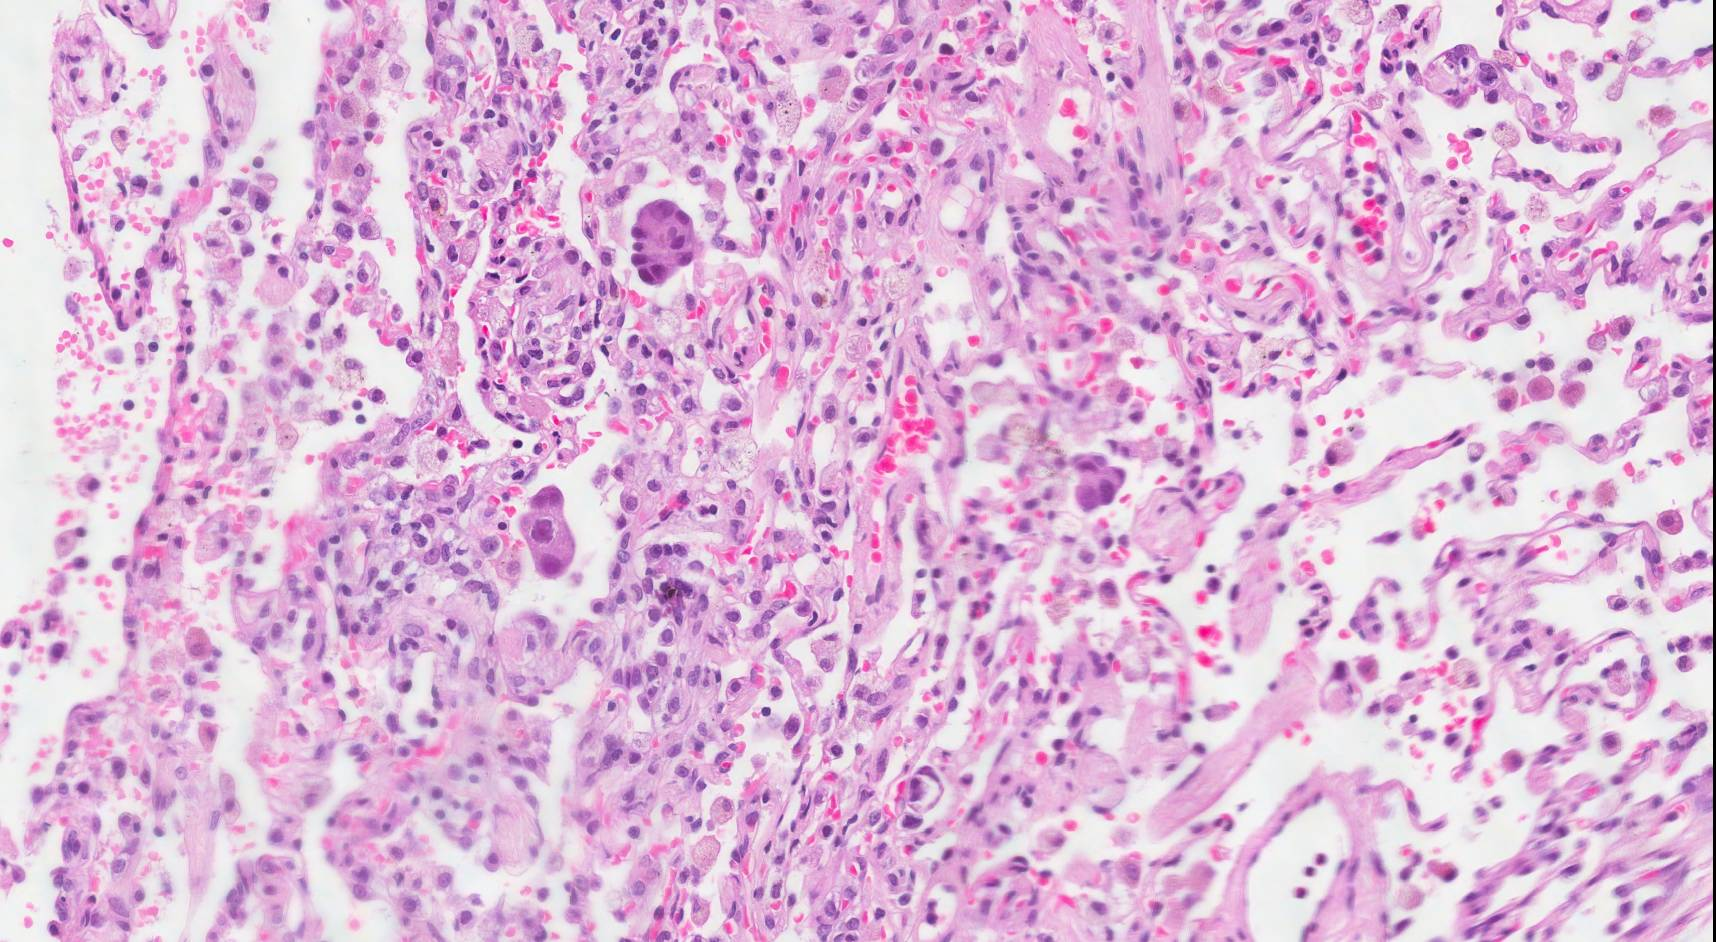stas: (513, 481, 587, 580), (624, 196, 703, 288), (1064, 447, 1135, 521)
